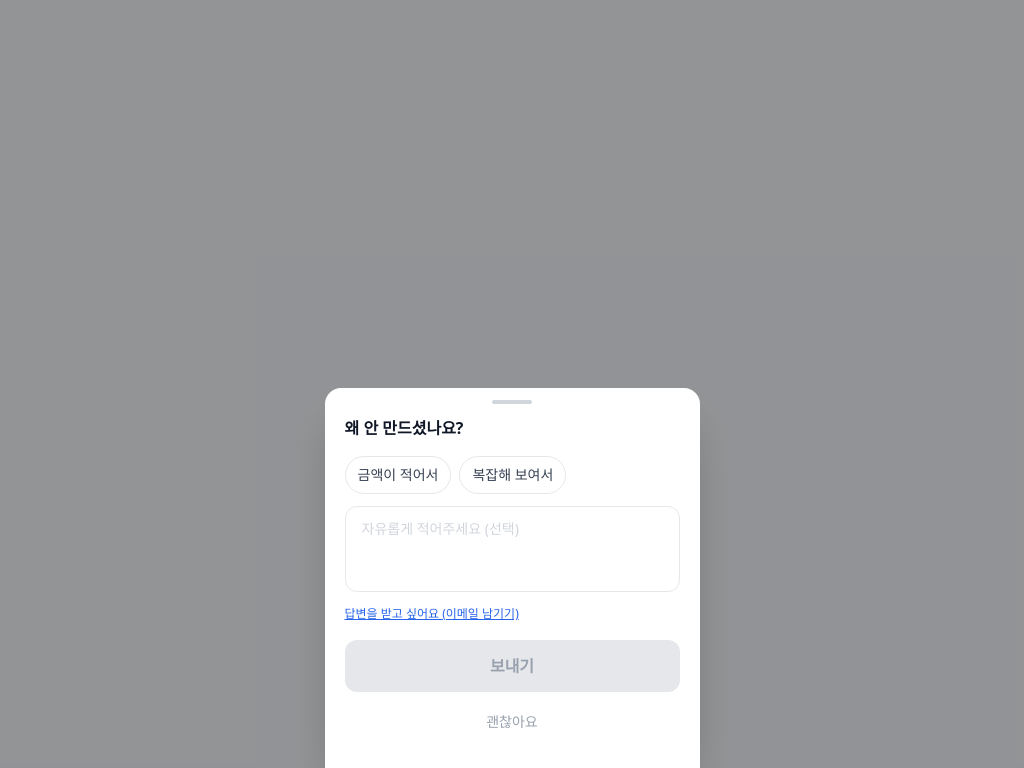
Test: FeedbackSheet › 전송 후 감사 화면을 보여주고 재노출을 막는다
The width and height of the screenshot is (1024, 768).
Click the button "금액이 적어서" at point(398, 475), box left=344, top=456, right=451, bottom=494
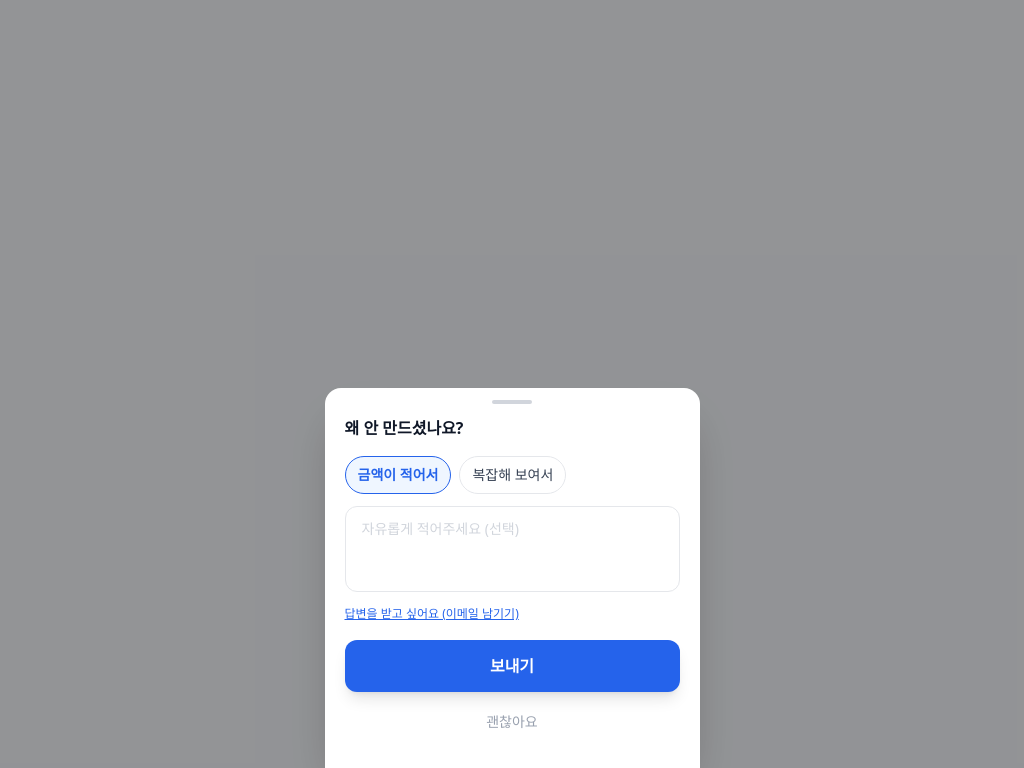
Click the button "보내기" at point(512, 666), box left=344, top=640, right=680, bottom=692
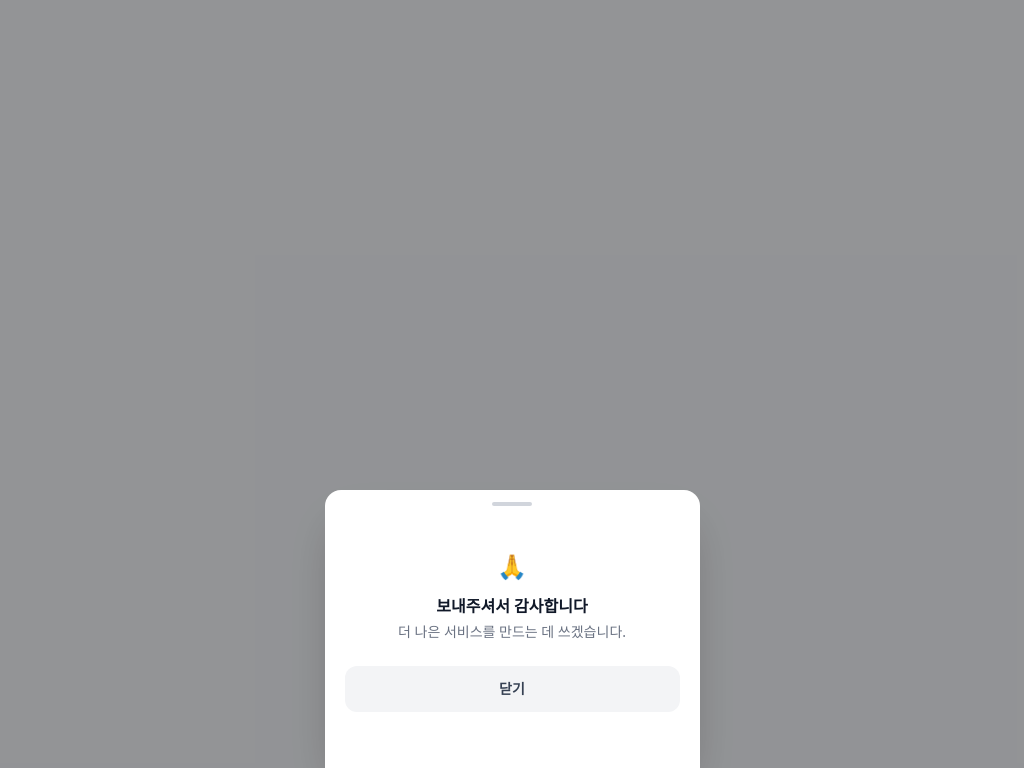
Check: the text "보내주셔서 감사합니다" is shown, box left=436, top=595, right=588, bottom=617
